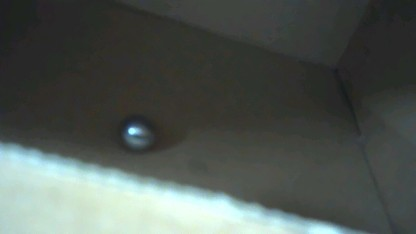ironball: (114, 107, 156, 148)
